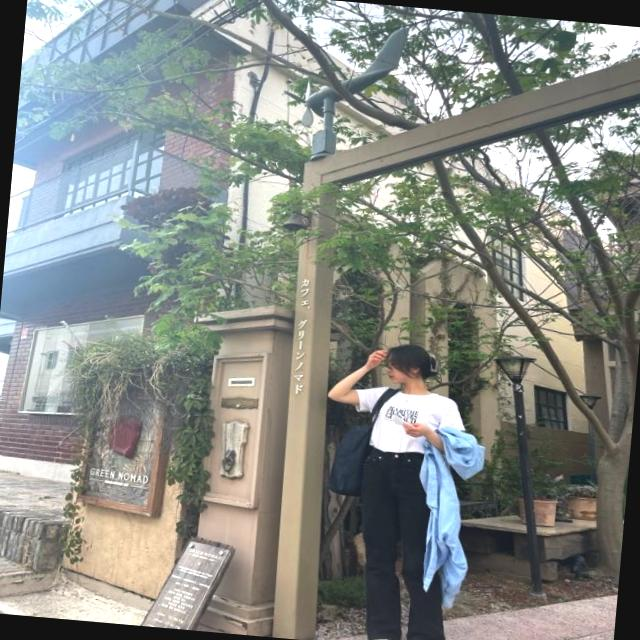denimpants: (347, 446, 477, 640)
shortsleeve: (352, 380, 468, 456)
